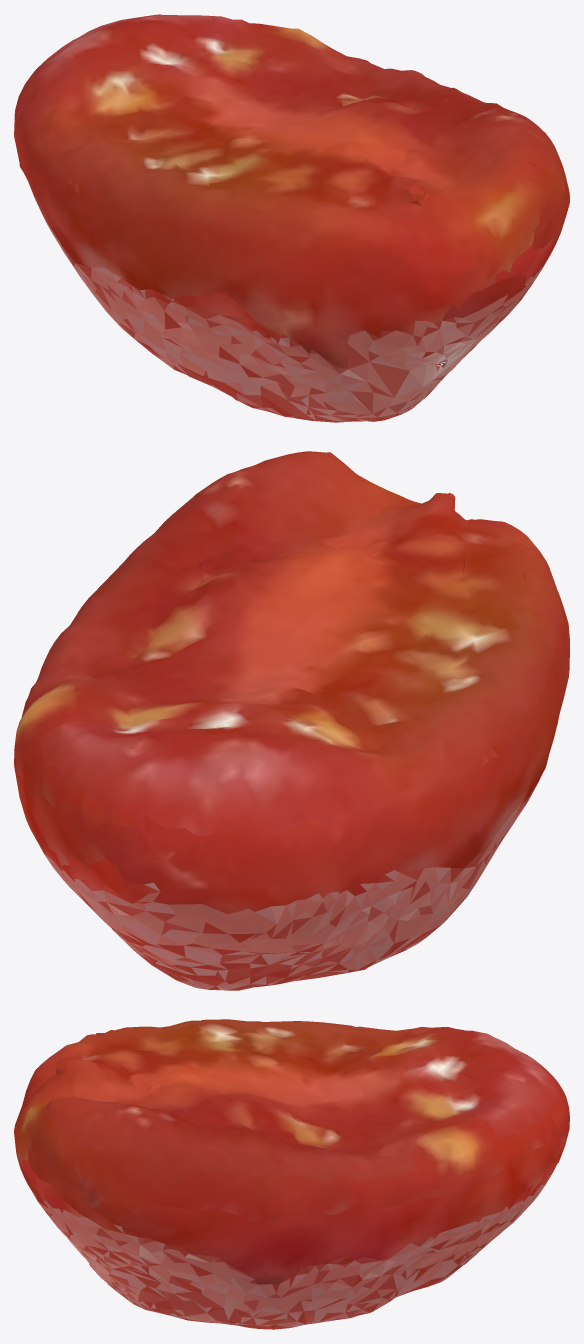
Rendered from tomato_cherry_sliced.glb.
The picture shows the model from 3 angles, top to bottom: view 1: azimuth 30°, elevation 25°; view 2: azimuth 150°, elevation 25°; view 3: azimuth 270°, elevation 25°; orthographic projection. The views are drawn at different scales.
Parts seen in each view (by area): view 1: Object_2; view 2: Object_2; view 3: Object_2.
Part boxes in pixels (bbox=[...]): Object_2: bbox=[14, 14, 569, 422]; Object_2: bbox=[14, 451, 569, 990]; Object_2: bbox=[14, 1019, 569, 1329].
Bounding box in the file's own units: 19.32 × 14.67 × 27.63.
1 material, 1 textured.
